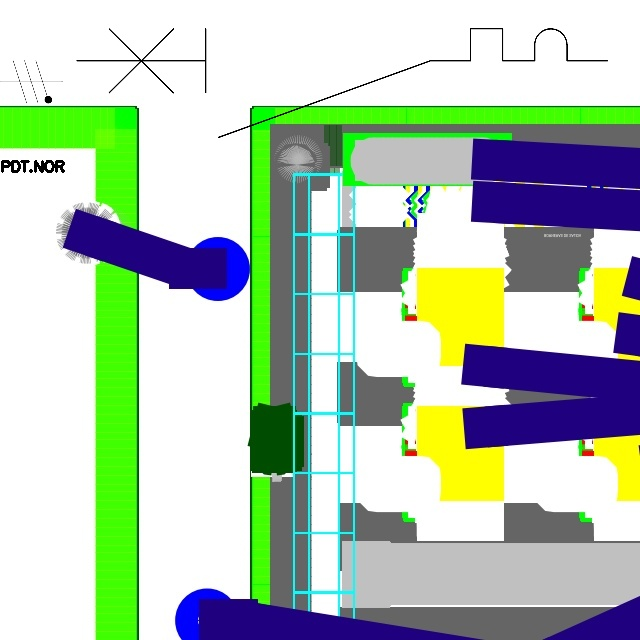interruptor_termomagnetico: (63, 15, 621, 151)
